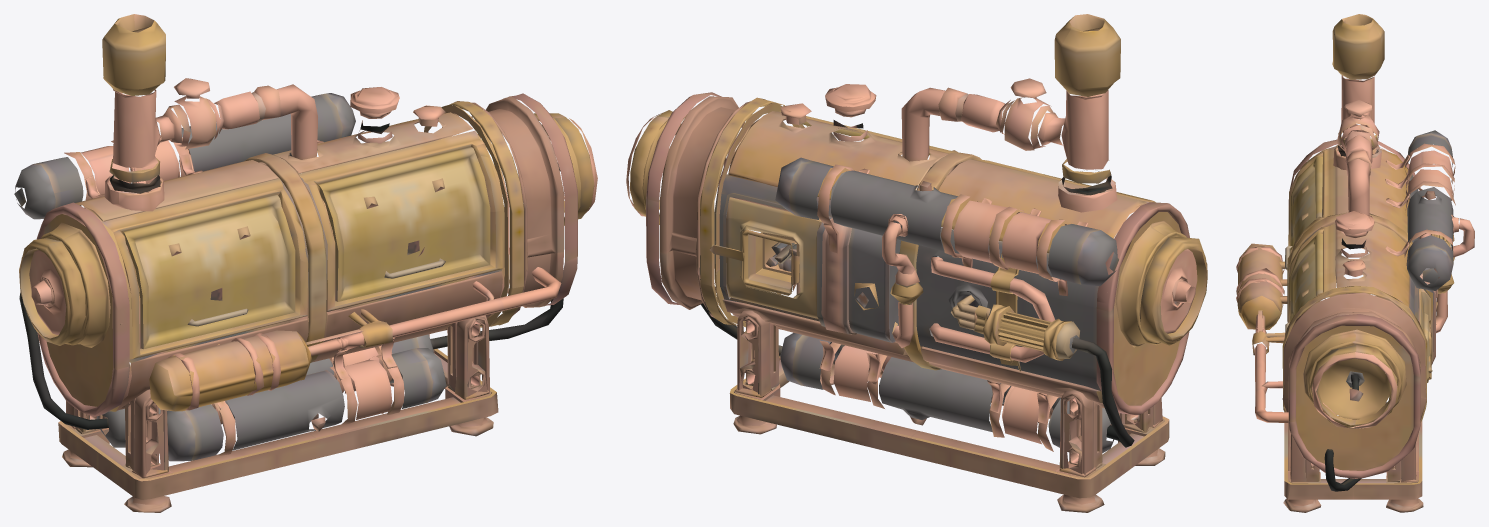
Rendered from StructureBP_IndustrialPreservingBin_C.glb.
The picture shows the model from 3 angles, left to right: view 1: azimuth 30°, elevation 25°; view 2: azimuth 150°, elevation 25°; view 3: azimuth 270°, elevation 25°; orthographic projection. The views are drawn at different scales.
Visible parts, largest first — view 1: SM_IndustrialPreservingBin; view 2: SM_IndustrialPreservingBin; view 3: SM_IndustrialPreservingBin.
Part boxes in pixels (x1,y1,x2,y2): SM_IndustrialPreservingBin: (14,14,597,512); SM_IndustrialPreservingBin: (626,14,1207,512); SM_IndustrialPreservingBin: (1236,14,1474,512).
Size of the model in its own units: 4.31 by 3.42 by 2.02.
Materials: 1 (1 with a texture image).
